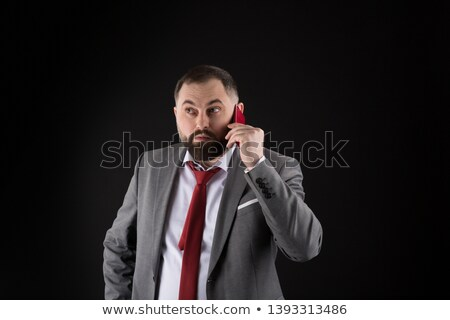phone: (230, 107, 260, 155)
talk: (177, 95, 273, 166)
